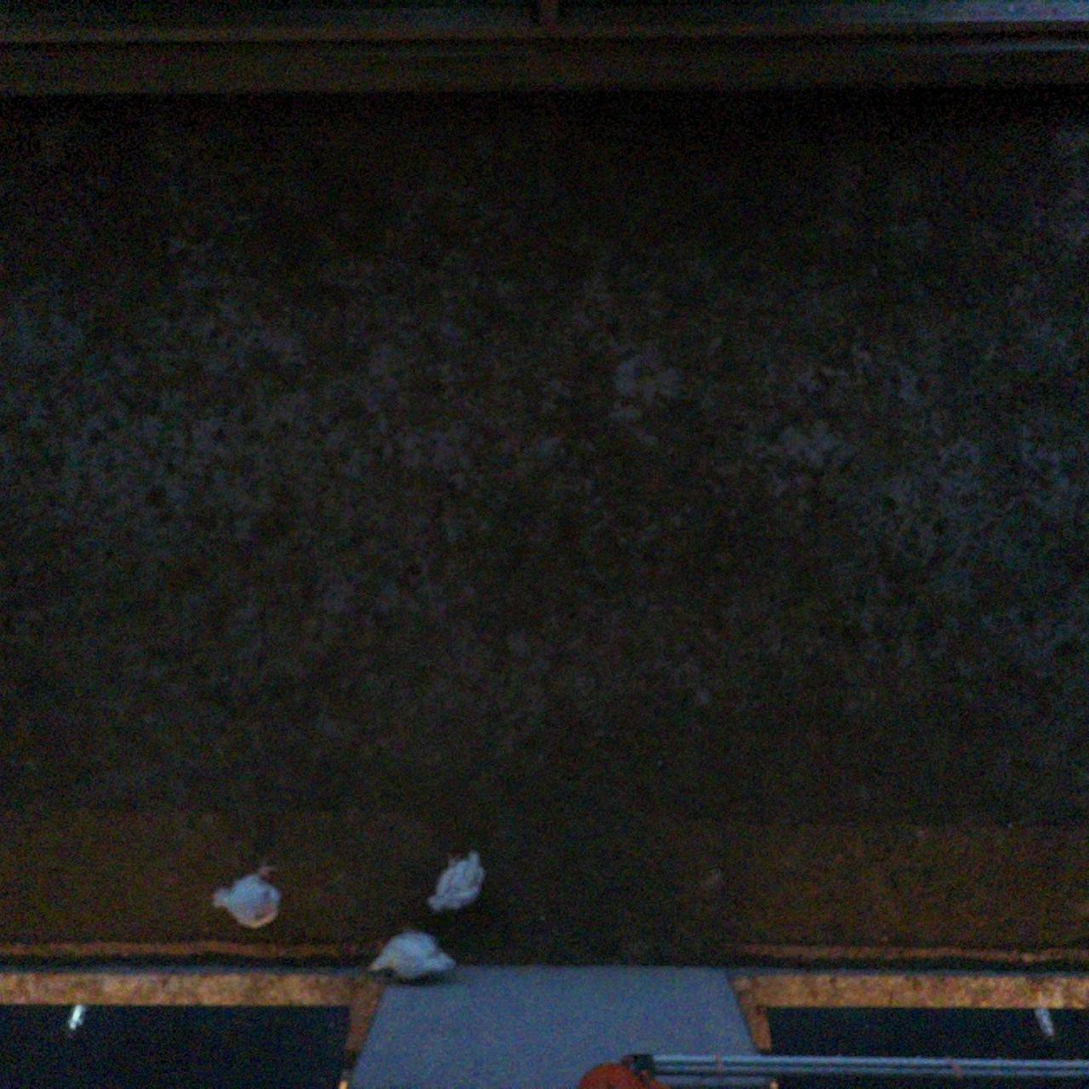chicken: (208, 861, 285, 931), (361, 928, 459, 982), (425, 846, 487, 915)
